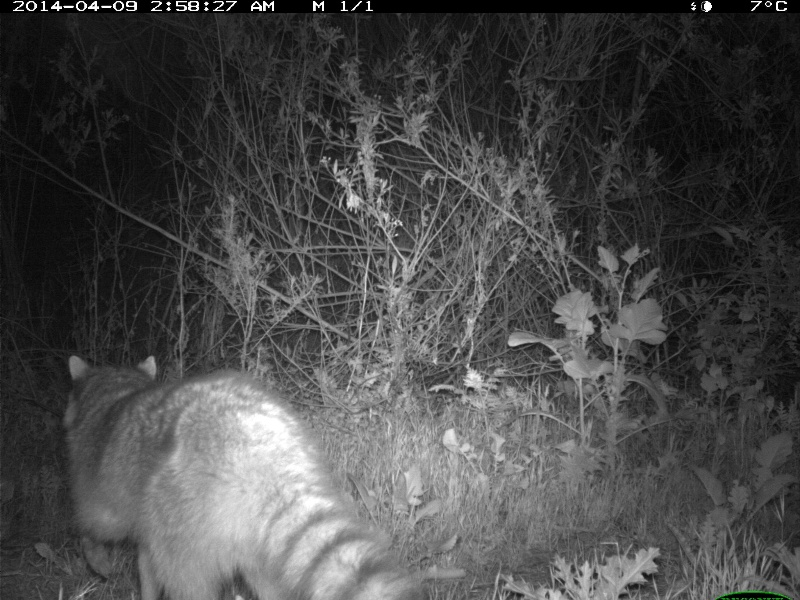raccoon: (64, 350, 404, 596)
